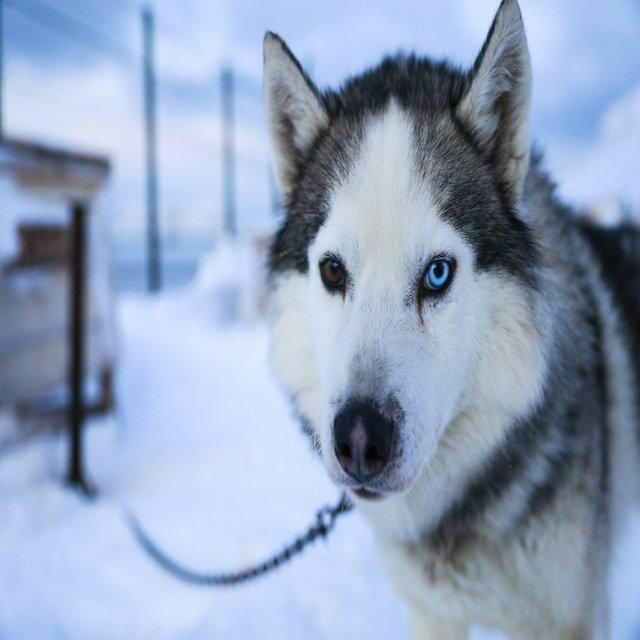husky: (257, 0, 638, 638)
